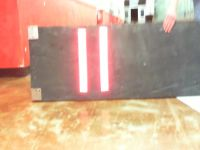switch: (98, 26, 110, 91), (77, 28, 89, 92)
